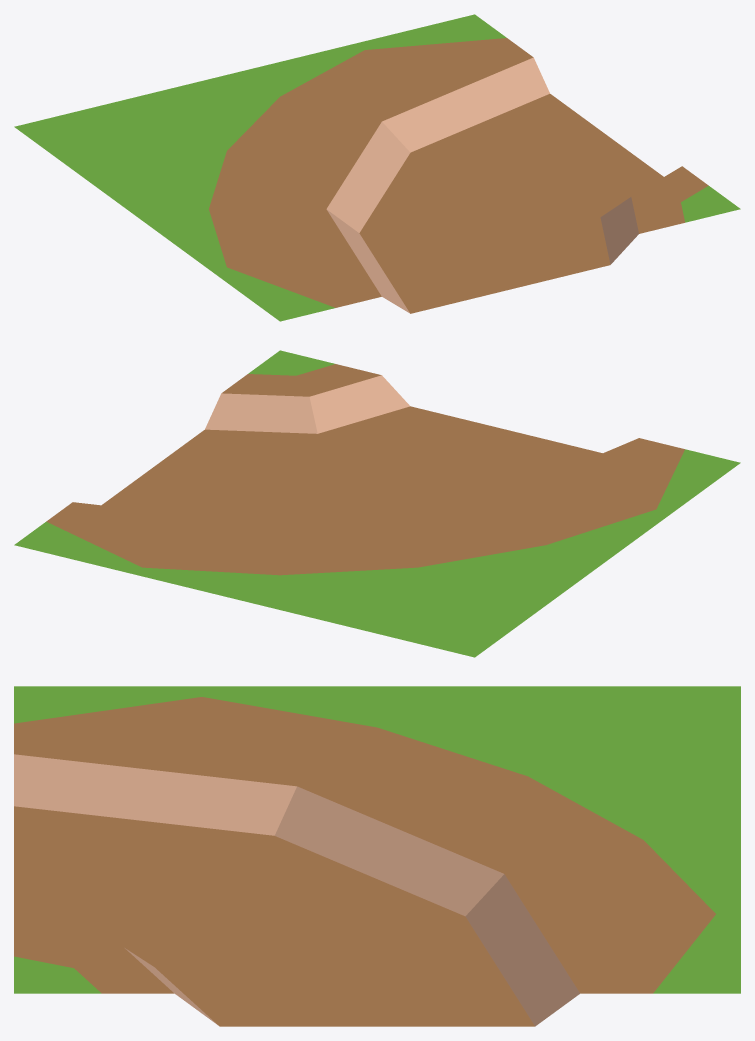
Rendered from ground_pathBendBank.glb.
3 renders of one model, top to bottom at view 1: azimuth 30°, elevation 25°; view 2: azimuth 150°, elevation 25°; view 3: azimuth 270°, elevation 25°, orthographic. The views are drawn at different scales.
Parts seen in each view (by area): view 1: ground_pathBendBank; view 2: ground_pathBendBank; view 3: ground_pathBendBank.
Part boxes in pixels (x1,y1,x2,y2): ground_pathBendBank: (14,14,740,321); ground_pathBendBank: (14,350,740,657); ground_pathBendBank: (14,686,740,1026).
Size of the model in its own units: 1 by 0.05 by 1.
